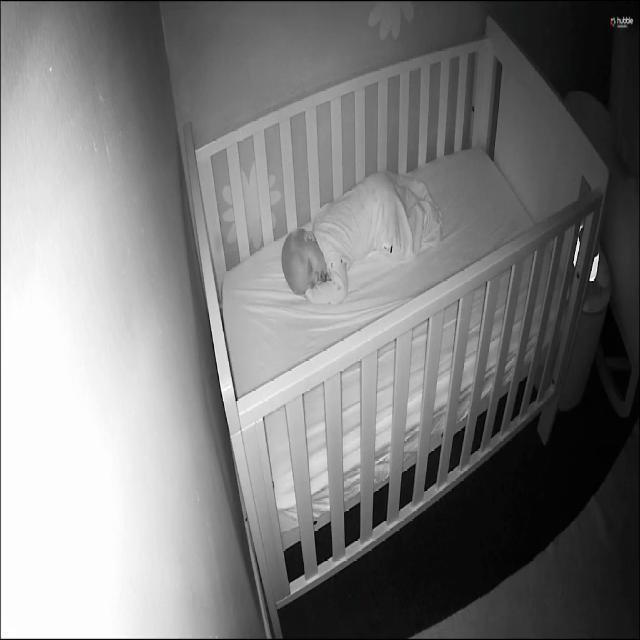baby: (274, 162, 452, 312)
